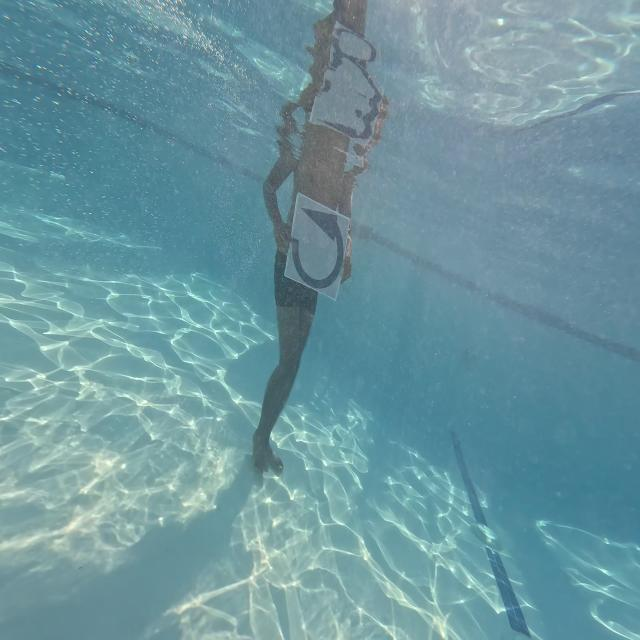blue_side: (282, 202, 352, 300)
